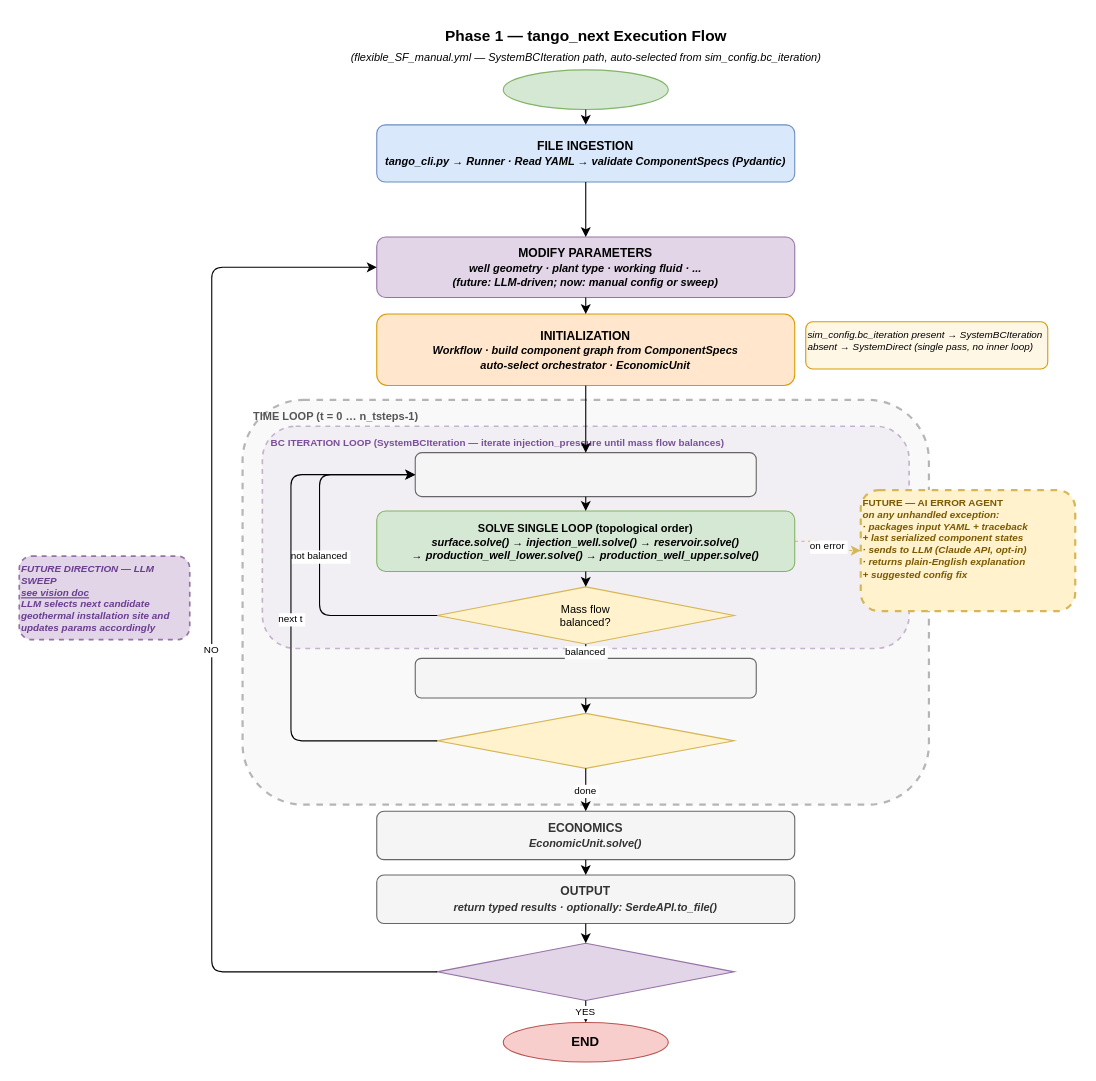
This 1096x1081 diagram has some shape labels left out. The shapes that lost their labels are listed below. From the top down, each one's centre as x and y in pixels, then its label:
(x=585, y=89): START
(x=585, y=474): Set injection_pressure guess (initial value from surface ComponentSpec)
(x=585, y=677): Record timestep results
(x=585, y=740): t < n_tsteps-1?
(x=585, y=971): Converged or budget reached?
